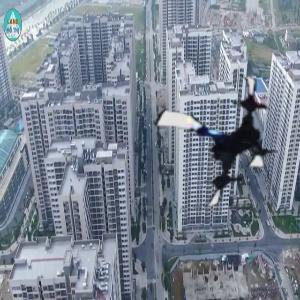drone: (141, 67, 290, 216)
